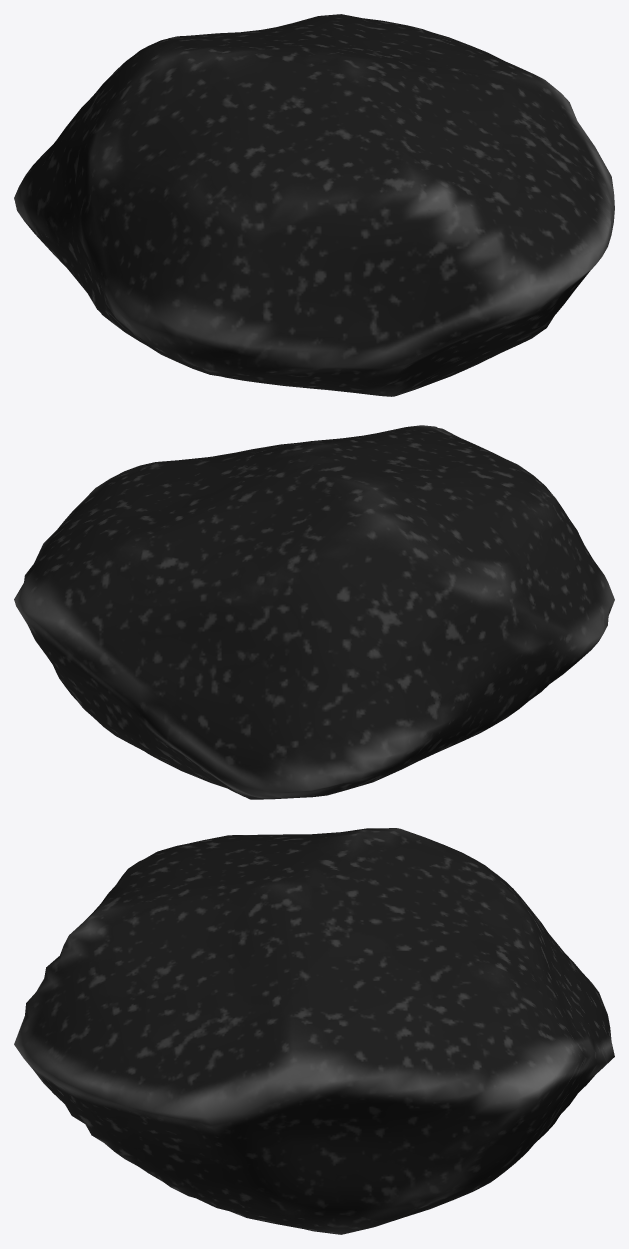
File: lunar_rock10.glb
3 renders of one model, top to bottom at view 1: azimuth 30°, elevation 25°; view 2: azimuth 150°, elevation 25°; view 3: azimuth 270°, elevation 25°, orthographic. The views are drawn at different scales.
Visible parts, largest first — view 1: lunar_rock_10; view 2: lunar_rock_10; view 3: lunar_rock_10.
Boxes of the visible parts, x1=… form: lunar_rock_10: x1=14, y1=14, x2=614, y2=396; lunar_rock_10: x1=14, y1=425, x2=614, y2=799; lunar_rock_10: x1=14, y1=828, x2=614, y2=1234.
Bounding box in the file's own units: 0.1718 × 0.1056 × 0.1896.
Materials: 1 (1 with a texture image).
